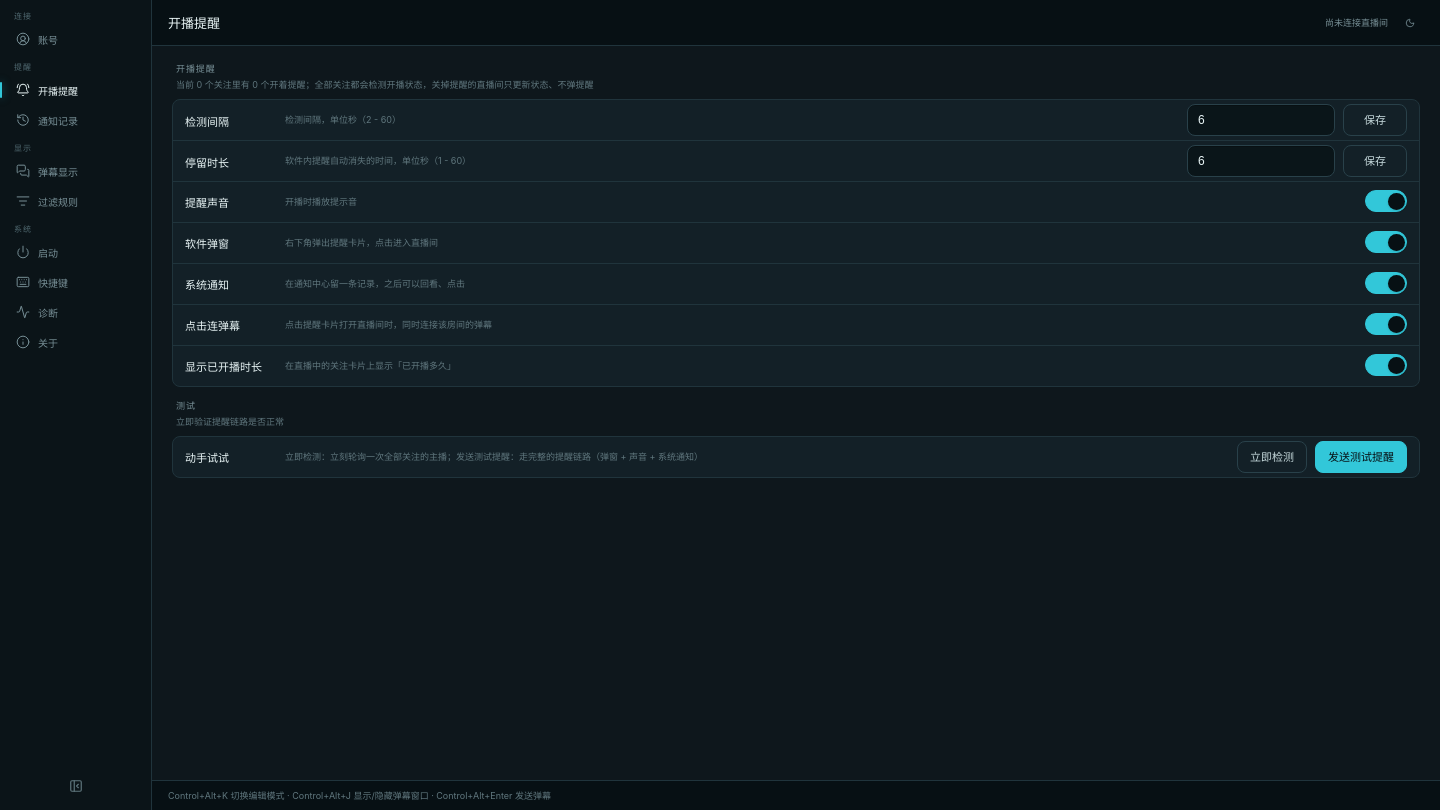
clears a display config error after the next successful save
This screenshot has width=1440, height=810.
Click the button "弹幕显示" at coordinates (76, 171), box [8,157,143,185]
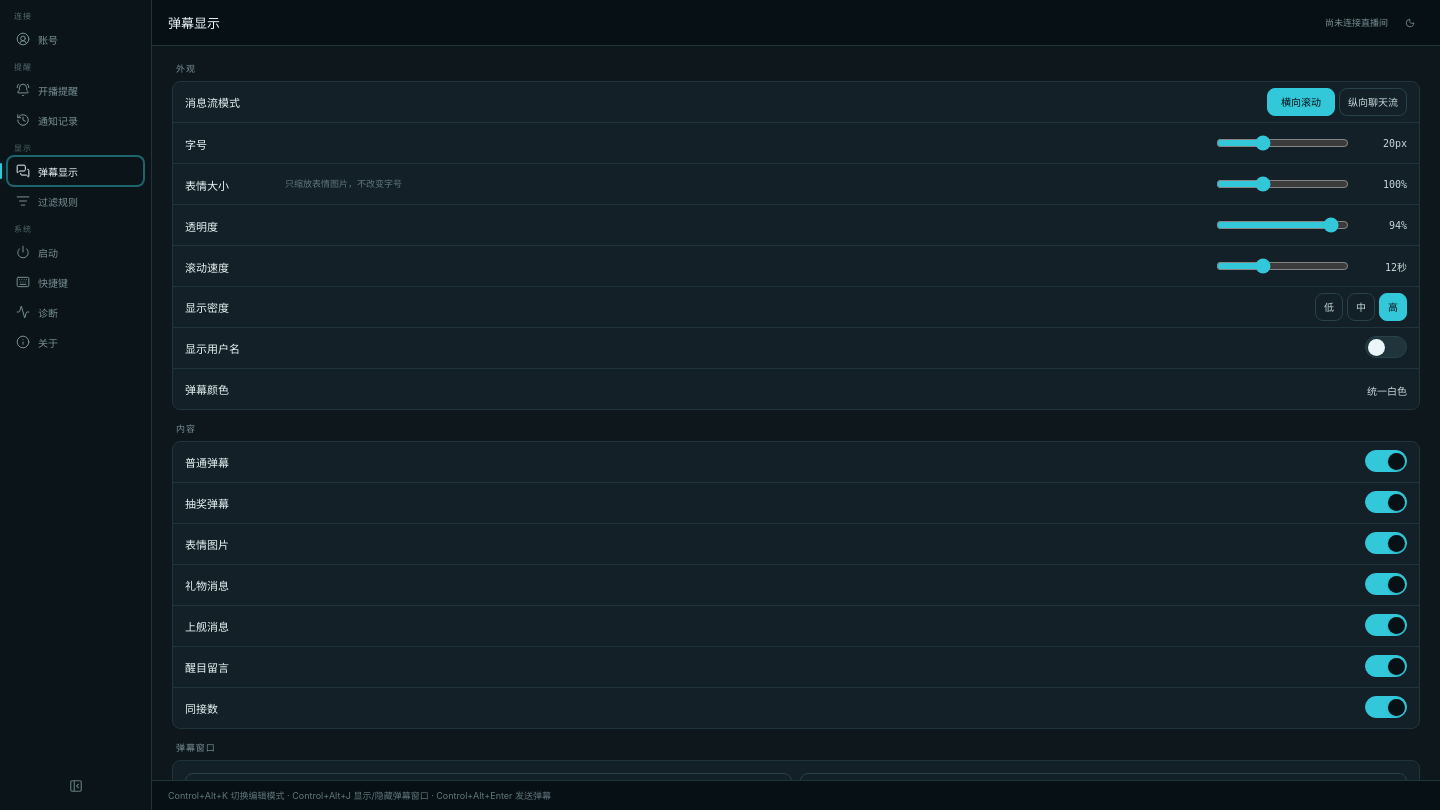
Click the button "纵向聊天流" at coordinates (1373, 102), box [1339,88,1407,116]
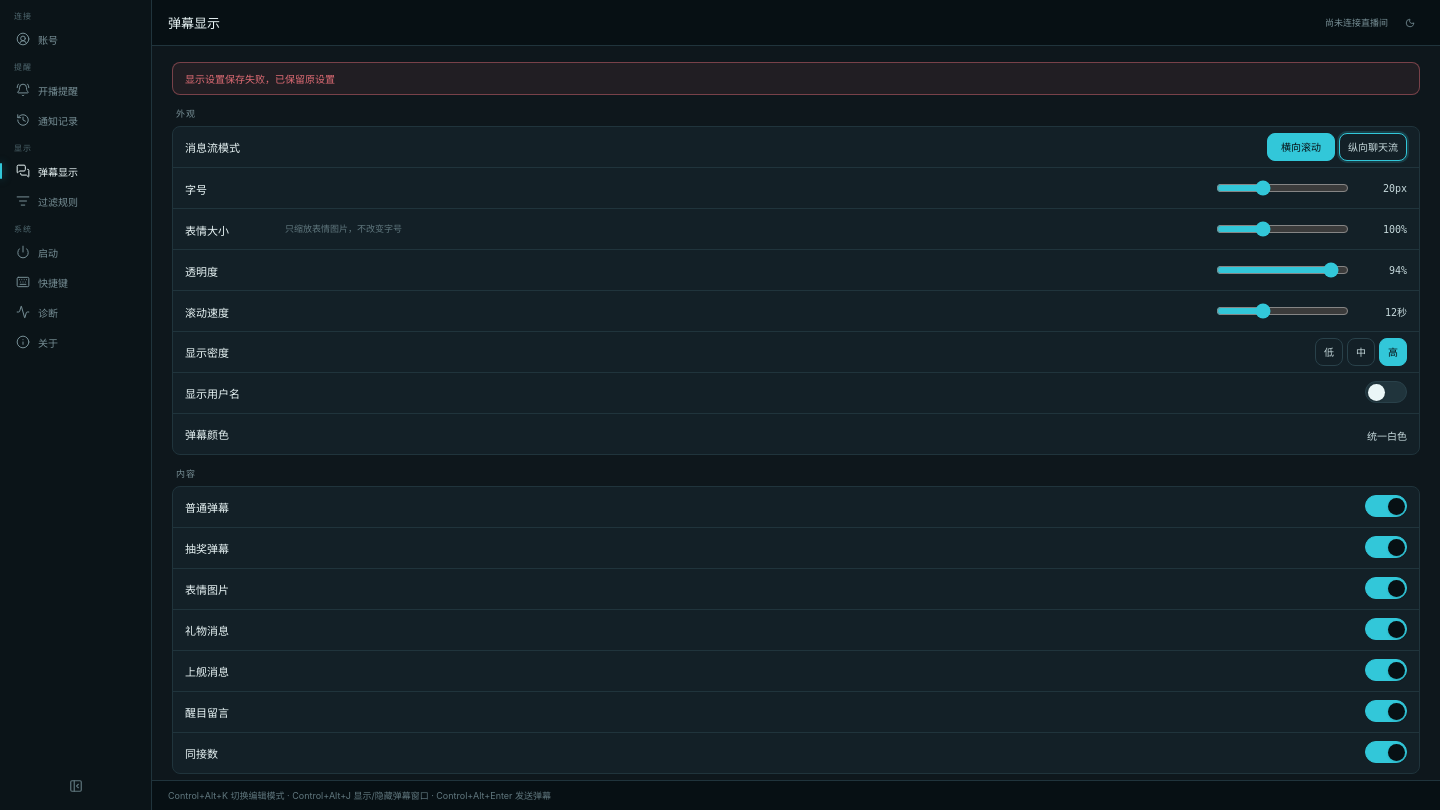
Expected: the message "显示设置保存失败，已保留原设置" is shown, [172,62,1420,95]
Click the button "纵向聊天流" at coordinates (1373, 147), box [1339,133,1407,161]
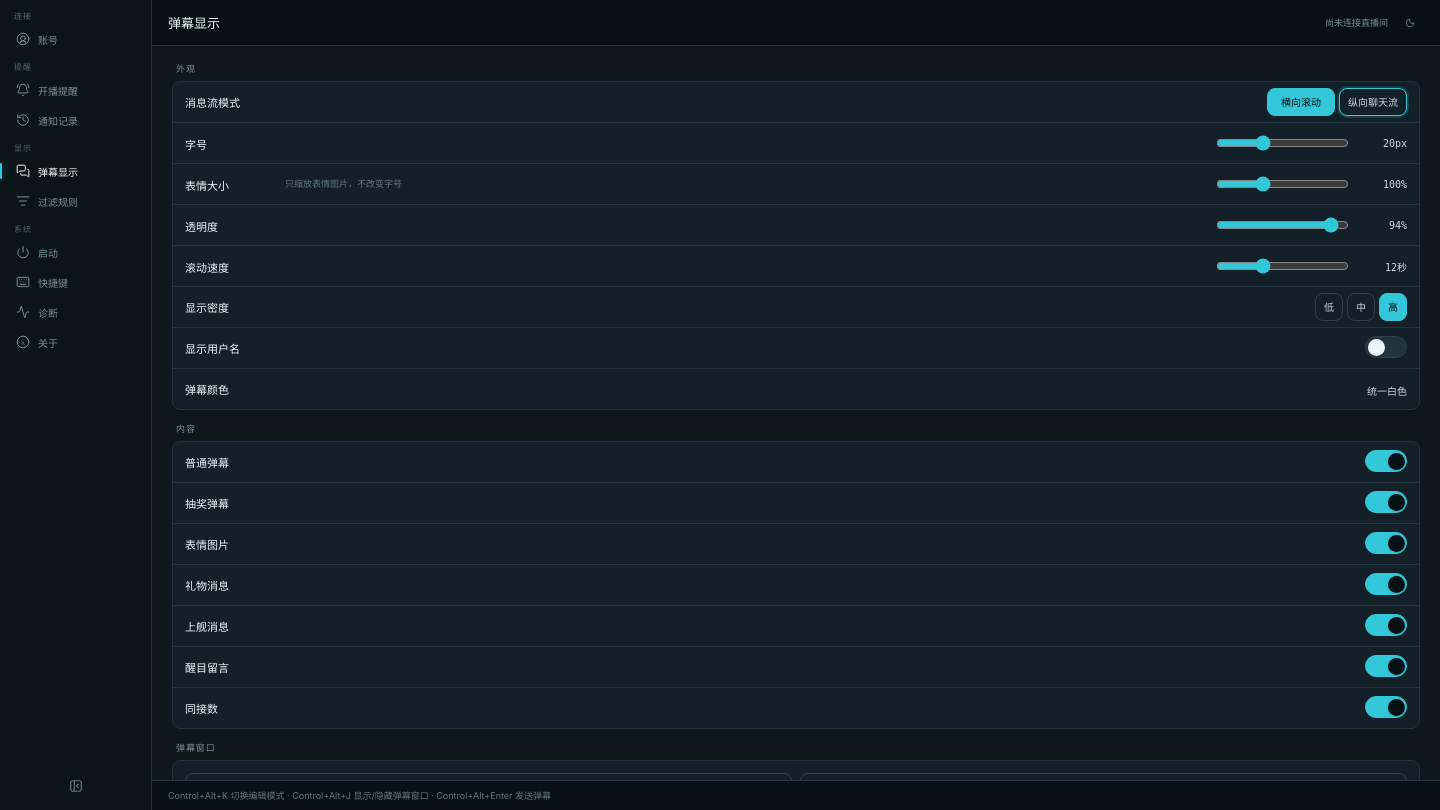
Expected: the message "显示设置保存失败，已保留原设置" is gone
